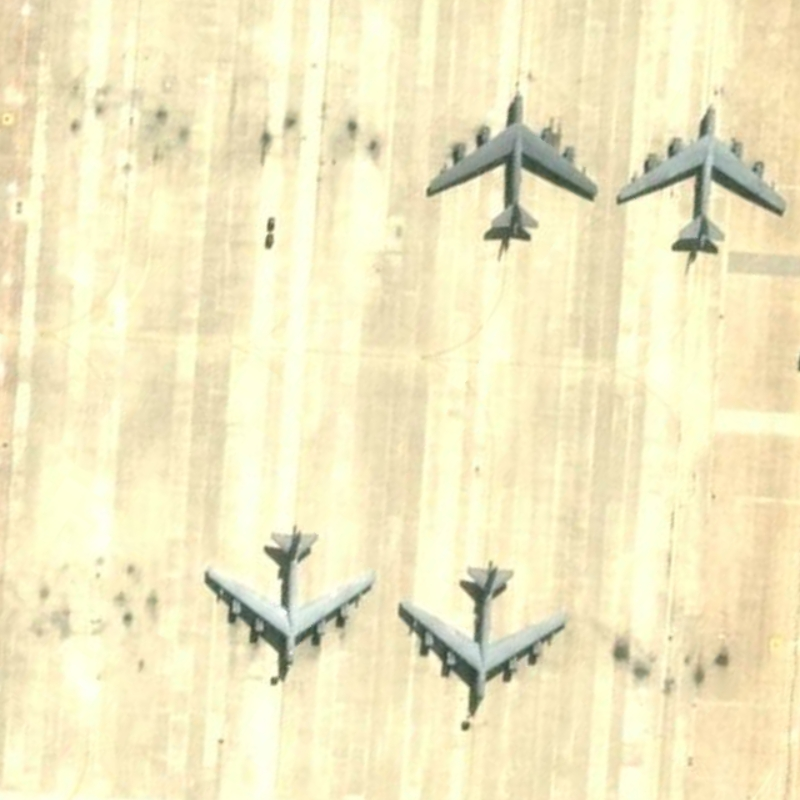A8: (201, 519, 380, 689), (611, 94, 787, 261), (423, 81, 599, 247), (389, 555, 572, 714)
